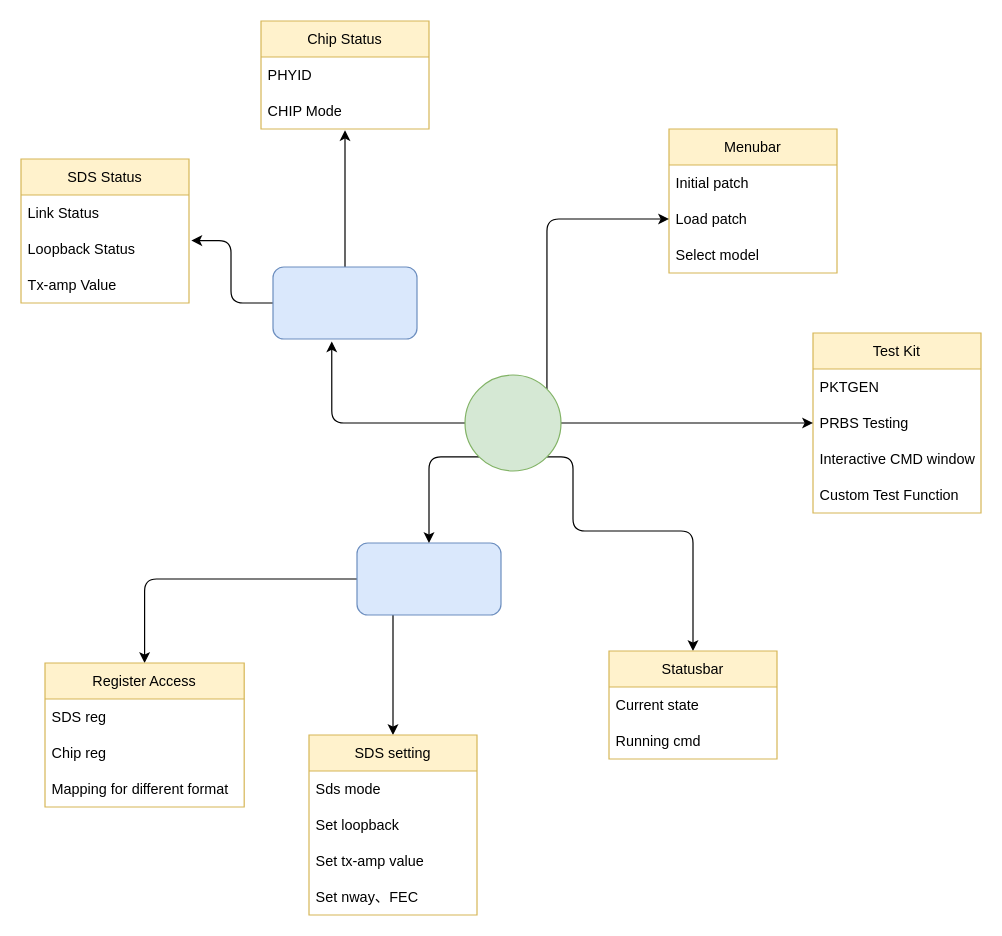
This 1002x936 diagram has some shape labels left out. Each missing label, with the centre of its shape:
GUI: point (512, 422)
Show Status: point (344, 302)
Write: point (428, 578)
